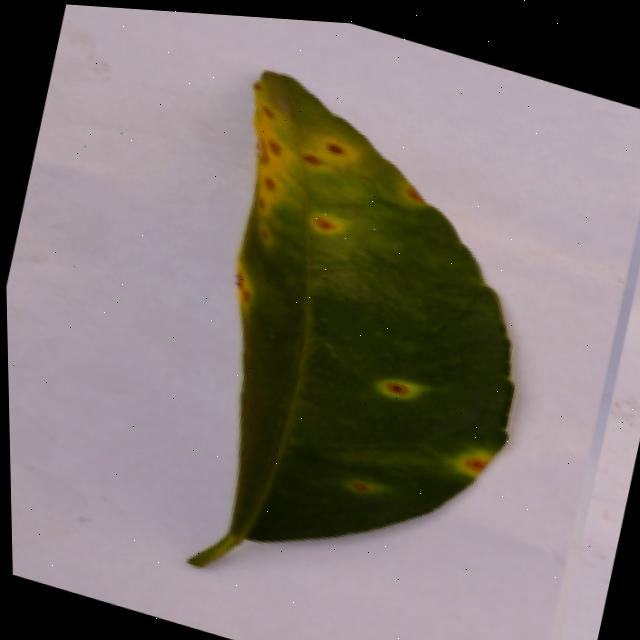canker: (189, 72, 511, 565), (202, 76, 450, 359), (332, 345, 511, 543)
